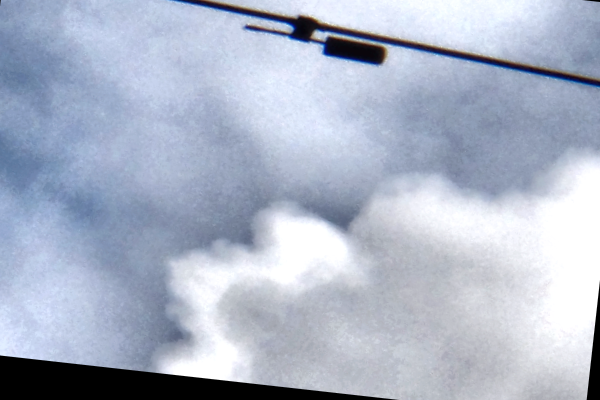damper_defect: (233, 4, 392, 69)
